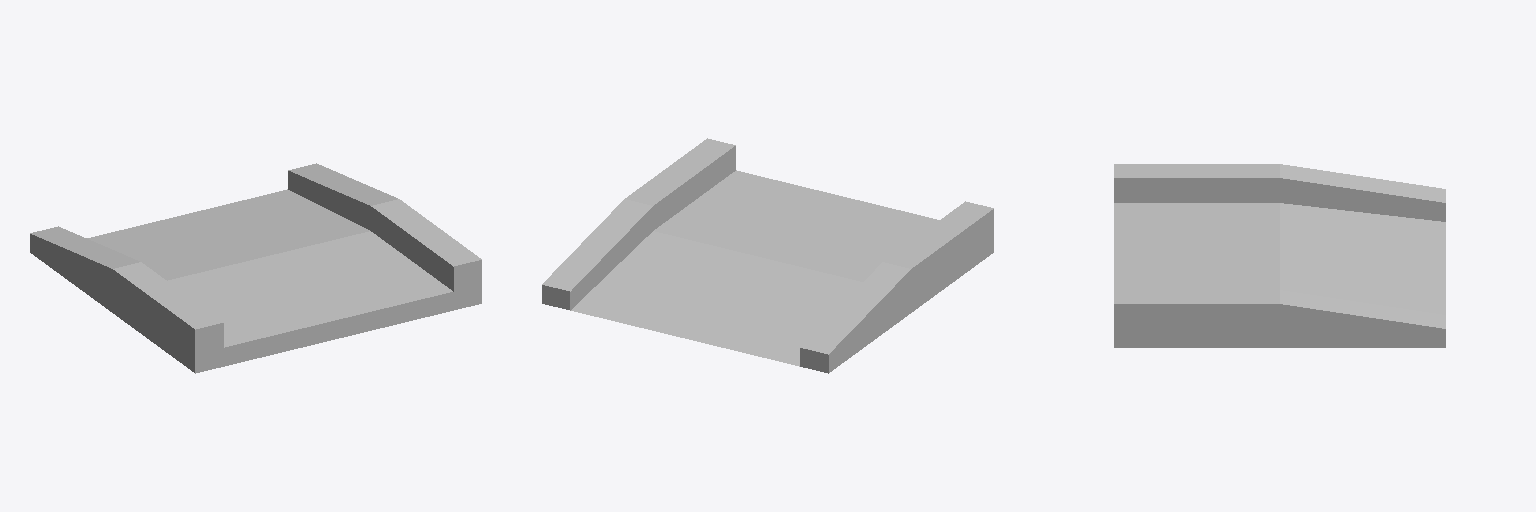
The model's file is Start_01.obj.
3 views of the same model, side by side, from view 1: azimuth 30°, elevation 25°; view 2: azimuth 150°, elevation 25°; view 3: azimuth 270°, elevation 25° (orthographic).
Parts seen in each view (by area): view 1: Mesh1 Start Model; view 2: Mesh1 Start Model; view 3: Mesh1 Start Model.
Boxes of the visible parts, box(x1,y1,x2,y2) form: Mesh1 Start Model: box(30, 163, 481, 373); Mesh1 Start Model: box(542, 138, 993, 373); Mesh1 Start Model: box(1114, 164, 1445, 347).
Size of the model in its own units: 3 by 0.44 by 3.